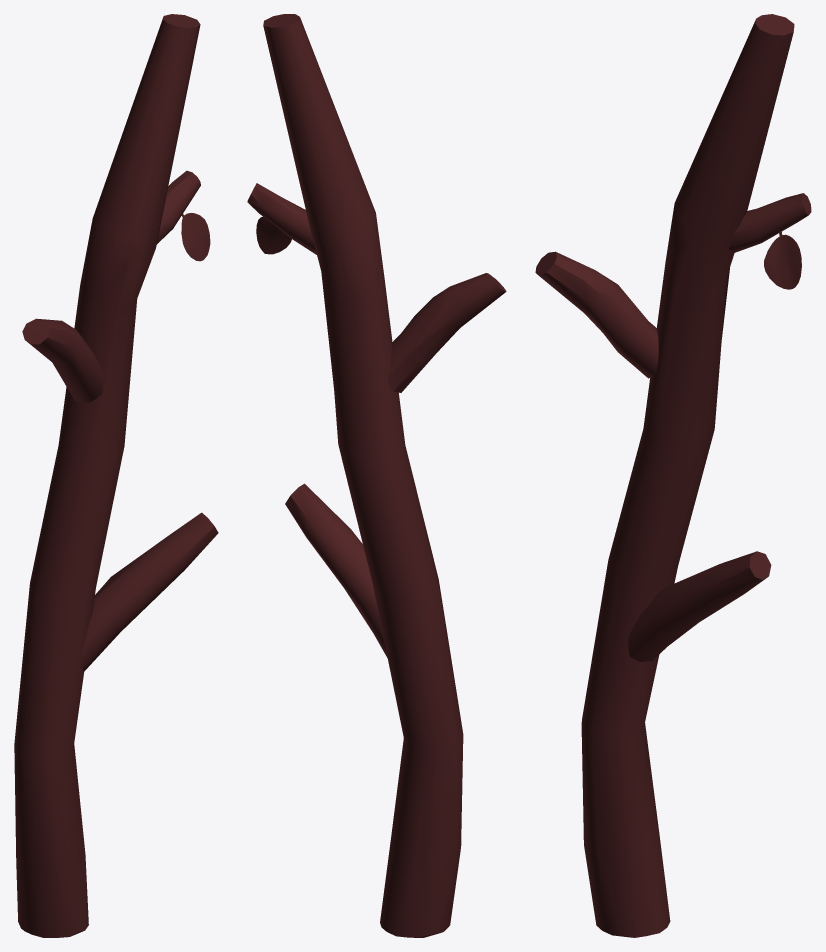
The model's file is Stick.fbx.
3 renders of one model, left to right at view 1: azimuth 30°, elevation 25°; view 2: azimuth 150°, elevation 25°; view 3: azimuth 330°, elevation 25°, orthographic. The views are drawn at different scales.
Visible parts, largest first — view 1: Plane.009; view 2: Plane.009; view 3: Plane.009.
Part boxes in pixels (bbox=[...]): Plane.009: bbox=[14, 14, 218, 937]; Plane.009: bbox=[247, 14, 506, 937]; Plane.009: bbox=[535, 14, 811, 937].
Bounding box in the file's own units: 15.19 × 58.43 × 6.86.
